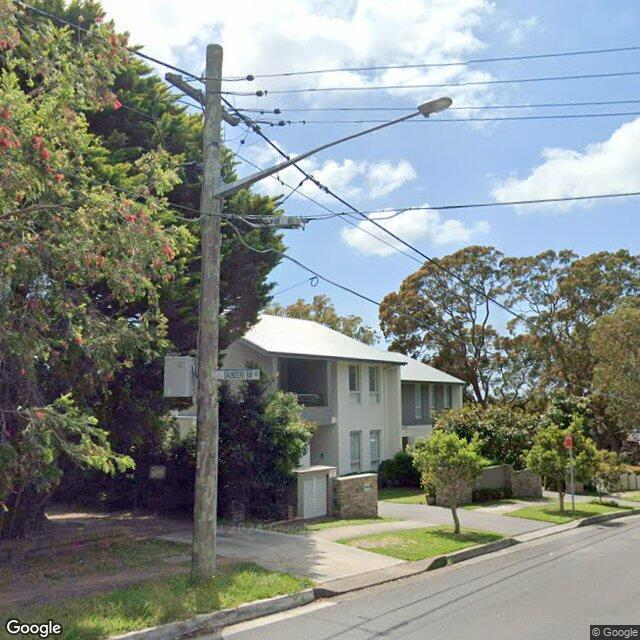crossarm: (164, 72, 241, 128)
streetlight: (218, 94, 452, 205)
timber-pole: (189, 45, 222, 588)
